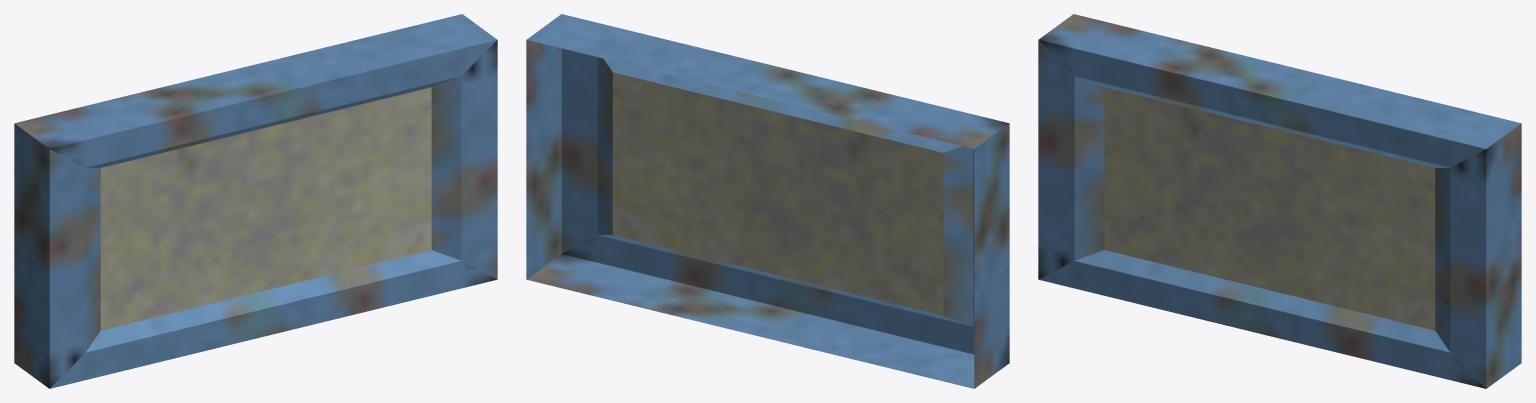
Rendered from FloorMonitor.fbx.
3 renders of one model, left to right at view 1: azimuth 30°, elevation 25°; view 2: azimuth 150°, elevation 25°; view 3: azimuth 330°, elevation 25°, orthographic.
Parts seen in each view (by area): view 1: Cube; view 2: Cube; view 3: Cube.
Boxes of the visible parts, x1,y1,x2,y2 form: Cube: (14, 14, 497, 388); Cube: (526, 14, 1009, 388); Cube: (1038, 14, 1521, 388).
Size of the model in its own units: 0.1839 by 0.0941 by 0.0251.
